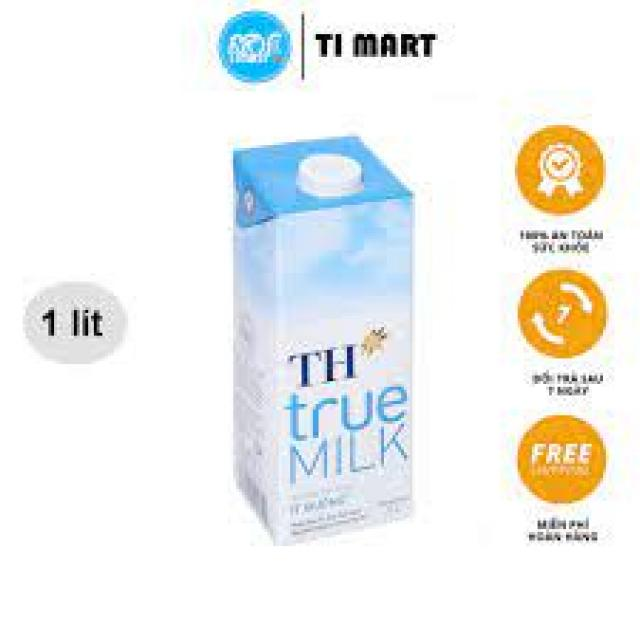non_white_jug: (194, 105, 432, 549)
